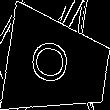O_E: (33, 40, 81, 91)
